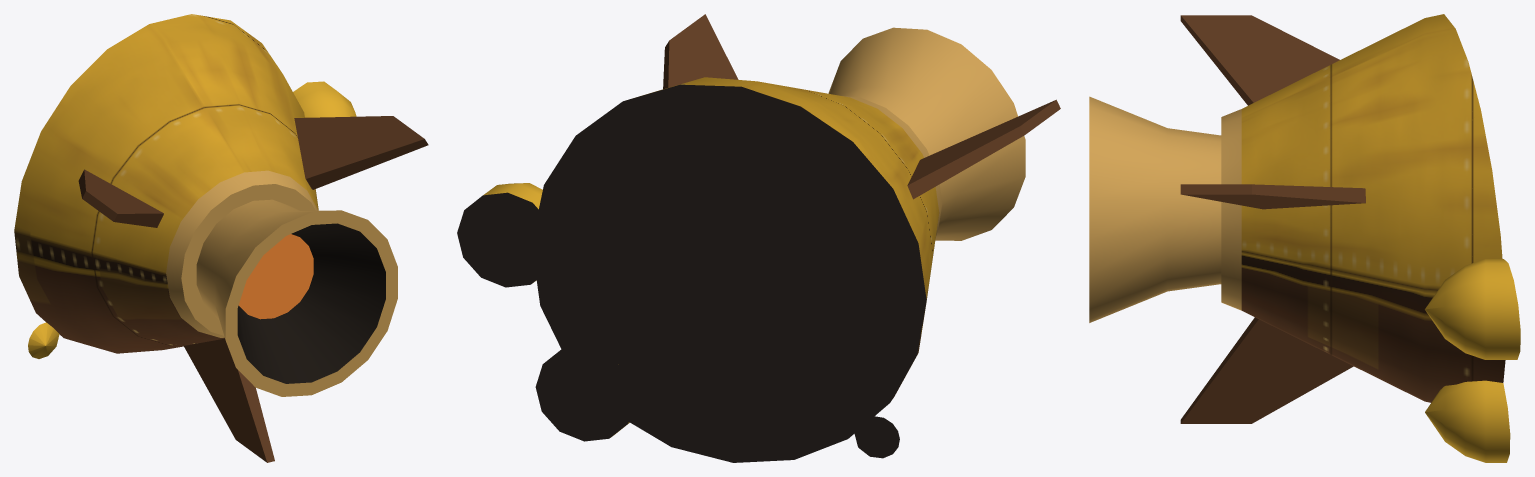
The model's file is cartel_freighter_debris5.obj.
The picture shows the model from 3 angles, left to right: view 1: azimuth 30°, elevation 25°; view 2: azimuth 150°, elevation 25°; view 3: azimuth 270°, elevation 25°; orthographic projection. The views are drawn at different scales.
Visible parts, largest first — view 1: hull, bell, fin60, fin180, pod, fin300; view 2: hull, bell, pod, fin300, fin60; view 3: hull, bell, pod, fin180, fin300, fin60.
Boxes of the visible parts, box(x1,y1,x2,y2) form: hull: box(14, 14, 318, 353); bell: box(196, 199, 397, 396); fin60: box(294, 116, 428, 189); fin180: box(184, 338, 274, 462); pod: box(28, 81, 356, 358); fin300: box(78, 169, 163, 227); hull: box(531, 77, 942, 462); bell: box(828, 27, 1025, 240); pod: box(457, 183, 899, 458); fin300: box(836, 99, 1060, 242); fin60: box(663, 14, 738, 89); hull: box(1221, 14, 1505, 402); bell: box(1089, 96, 1221, 322); pod: box(1425, 259, 1520, 462); fin180: box(1180, 317, 1353, 423); fin300: box(1180, 15, 1339, 105); fin60: box(1180, 184, 1365, 209).
Bounding box in the file's own units: 24.18 × 21.33 × 21.22.
Materials: 7 (1 with a texture image).
